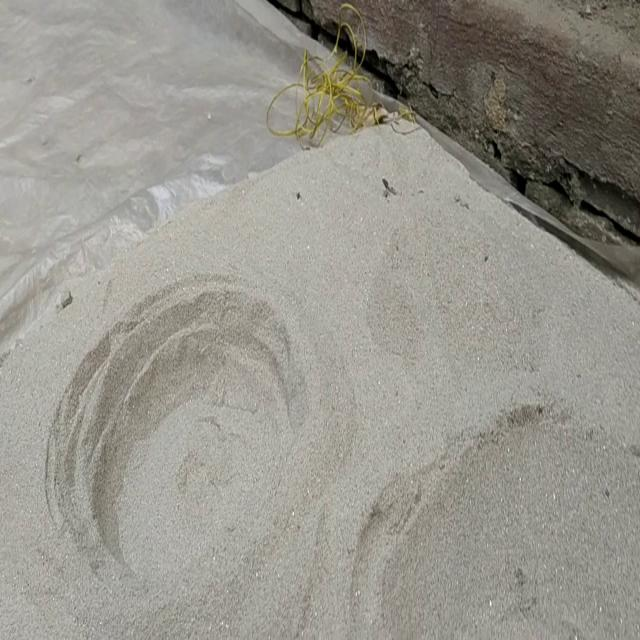C20: (350, 407, 640, 638), (60, 291, 290, 578)
